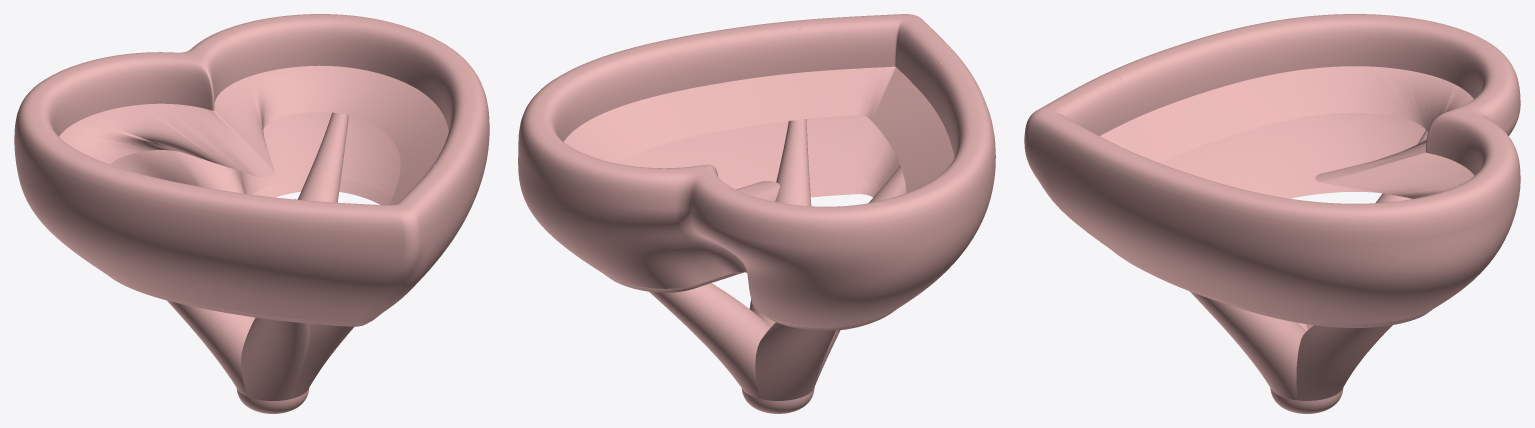
File: HEART.glb
The picture shows the model from 3 angles, left to right: view 1: azimuth 30°, elevation 25°; view 2: azimuth 150°, elevation 25°; view 3: azimuth 270°, elevation 25°; orthographic projection.
Visible parts, largest first — view 1: Heart; view 2: Heart; view 3: Heart.
Part boxes in pixels (box(x1,y1,x2,y2)): Heart: box(14, 14, 489, 413); Heart: box(518, 14, 995, 413); Heart: box(1024, 14, 1520, 413).
Size of the model in its own units: 6 by 4.01 by 6.1.
